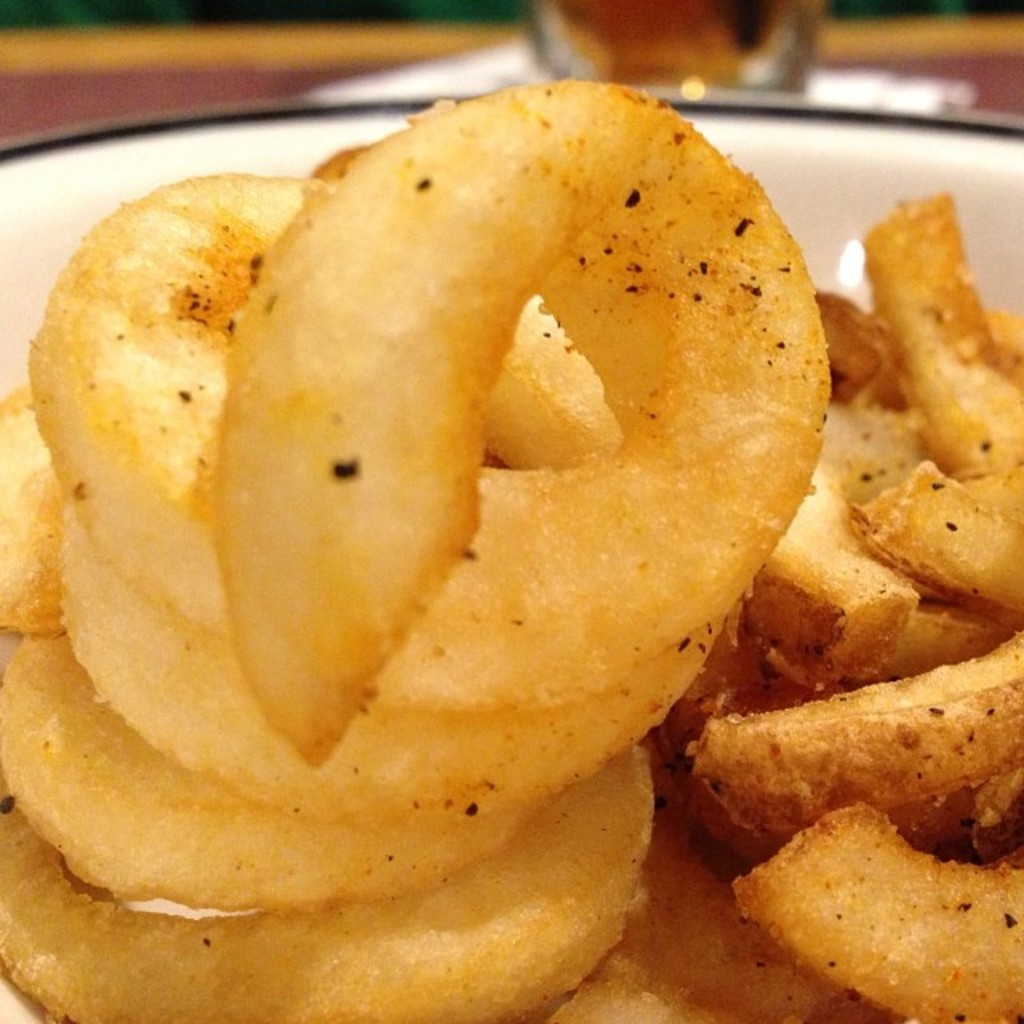French fries: (679, 158, 1024, 903)
